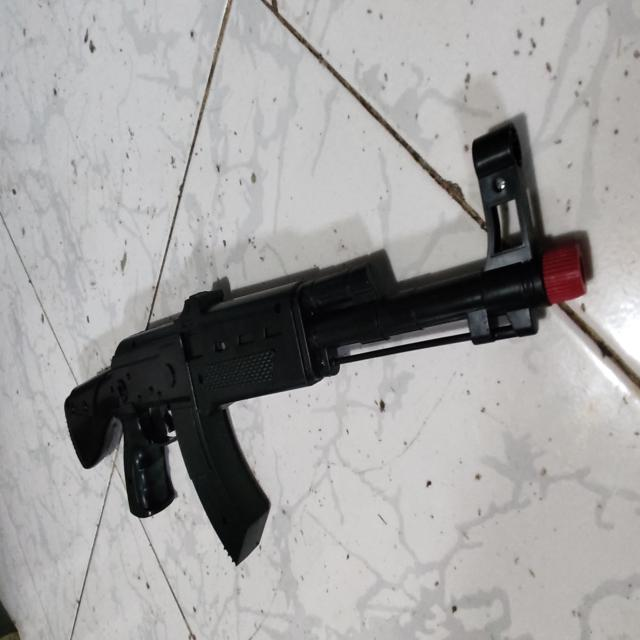rifle: (65, 122, 587, 564)
